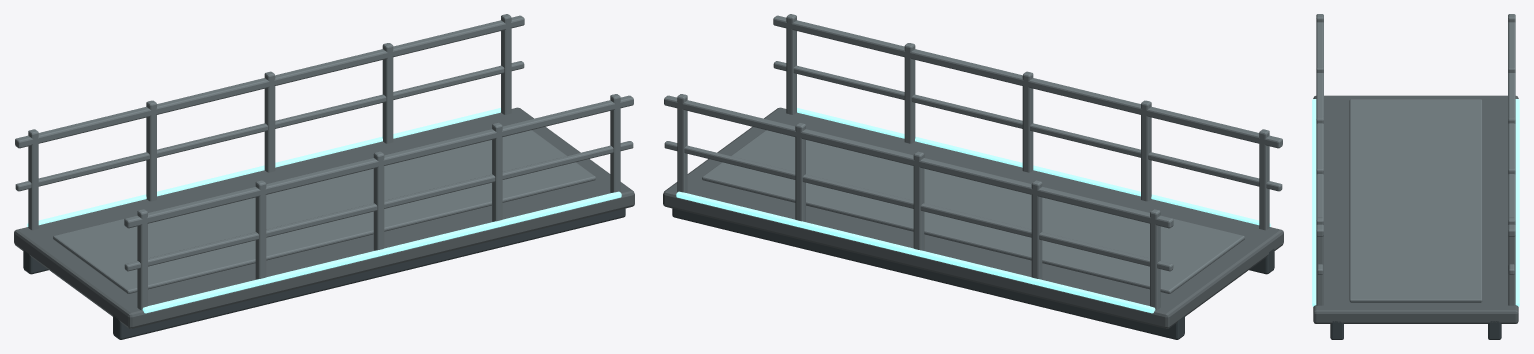
Rendered from CatwalkSection_A.fbx.
3 views of the same model, side by side, from view 1: azimuth 30°, elevation 25°; view 2: azimuth 150°, elevation 25°; view 3: azimuth 270°, elevation 25° (orthographic). The views are drawn at different scales.
Parts seen in each view (by area): view 1: Catwalk Center Grate, Catwalk Deck, Catwalk Top Rail, Catwalk Top Rail.001, Catwalk Underbeam Left, Catwalk Mid Rail.001, Catwalk Mid Rail, Catwalk Guide Light Left, Catwalk Guide Light Right, Catwalk Rail Post.007, Catwalk Rail Post.008, Catwalk Rail Post.001 (+7 smaller); view 2: Catwalk Center Grate, Catwalk Deck, Catwalk Top Rail.001, Catwalk Top Rail, Catwalk Underbeam Right, Catwalk Mid Rail, Catwalk Mid Rail.001, Catwalk Guide Light Right, Catwalk Guide Light Left, Catwalk Rail Post.002, Catwalk Rail Post.003, Catwalk Rail Post.006 (+7 smaller); view 3: Catwalk Center Grate, Catwalk Deck, Catwalk Top Rail, Catwalk Top Rail.001, Catwalk Guide Light Left, Catwalk Guide Light Right, Catwalk Rail Post.004, Catwalk Rail Post.009, Catwalk Underbeam Left, Catwalk Underbeam Right.
Boxes of the visible parts, <box> form: Catwalk Center Grate: <box>53,130,595,293</box>; Catwalk Deck: <box>14,107,634,328</box>; Catwalk Top Rail: <box>124,95,633,228</box>; Catwalk Top Rail.001: <box>15,15,524,148</box>; Catwalk Underbeam Left: <box>113,208,625,339</box>; Catwalk Mid Rail.001: <box>15,61,524,191</box>; Catwalk Mid Rail: <box>124,141,633,271</box>; Catwalk Guide Light Left: <box>142,191,621,313</box>; Catwalk Guide Light Right: <box>27,108,500,226</box>; Catwalk Rail Post.007: <box>264,71,275,172</box>; Catwalk Rail Post.008: <box>382,43,393,143</box>; Catwalk Rail Post.001: <box>255,180,266,279</box>; Catwalk Center Grate: <box>702,130,1244,293</box>; Catwalk Deck: <box>663,107,1283,328</box>; Catwalk Top Rail.001: <box>664,95,1173,228</box>; Catwalk Top Rail: <box>773,15,1282,148</box>; Catwalk Underbeam Right: <box>672,208,1184,339</box>; Catwalk Mid Rail: <box>773,61,1282,191</box>; Catwalk Mid Rail.001: <box>664,141,1173,271</box>; Catwalk Guide Light Right: <box>676,191,1155,313</box>; Catwalk Guide Light Left: <box>797,108,1270,226</box>; Catwalk Rail Post.002: <box>1022,71,1033,172</box>; Catwalk Rail Post.003: <box>904,43,915,143</box>; Catwalk Rail Post.006: <box>1031,180,1042,279</box>; Catwalk Center Grate: <box>1349,99,1482,302</box>; Catwalk Deck: <box>1313,95,1518,323</box>; Catwalk Top Rail: <box>1316,14,1323,236</box>; Catwalk Top Rail.001: <box>1508,14,1515,236</box>; Catwalk Guide Light Left: <box>1312,99,1316,306</box>; Catwalk Guide Light Right: <box>1515,99,1519,306</box>; Catwalk Rail Post.004: <box>1316,217,1323,305</box>; Catwalk Rail Post.009: <box>1508,217,1515,305</box>; Catwalk Underbeam Left: <box>1330,321,1343,339</box>; Catwalk Underbeam Right: <box>1488,321,1501,339</box>.
Size of the model in its own units: 6 by 1.48 by 2.42.
